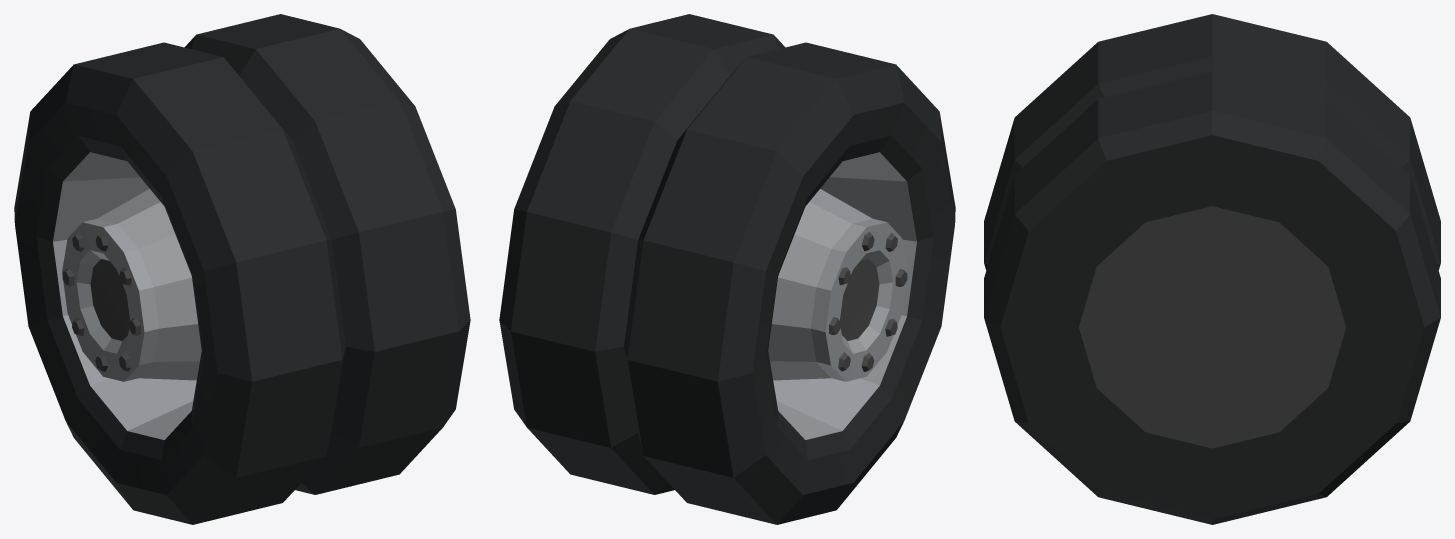
File: SM_Veh_Truck_Wheel_rr_01_841.obj
3 renders of one model, left to right at view 1: azimuth 30°, elevation 25°; view 2: azimuth 150°, elevation 25°; view 3: azimuth 270°, elevation 25°, orthographic. The views are drawn at different scales.
Visible parts, largest first — view 1: SM_Veh_Truck_Wheel_rr_01_0; view 2: SM_Veh_Truck_Wheel_rr_01_0; view 3: SM_Veh_Truck_Wheel_rr_01_0.
Part boxes in pixels (x1,y1,x2,y2): SM_Veh_Truck_Wheel_rr_01_0: [14, 14, 470, 524]; SM_Veh_Truck_Wheel_rr_01_0: [499, 14, 955, 524]; SM_Veh_Truck_Wheel_rr_01_0: [984, 14, 1440, 524].
Size of the model in its own units: 0.6631 by 1.05 by 1.05.
Materials: 1 (1 with a texture image).
